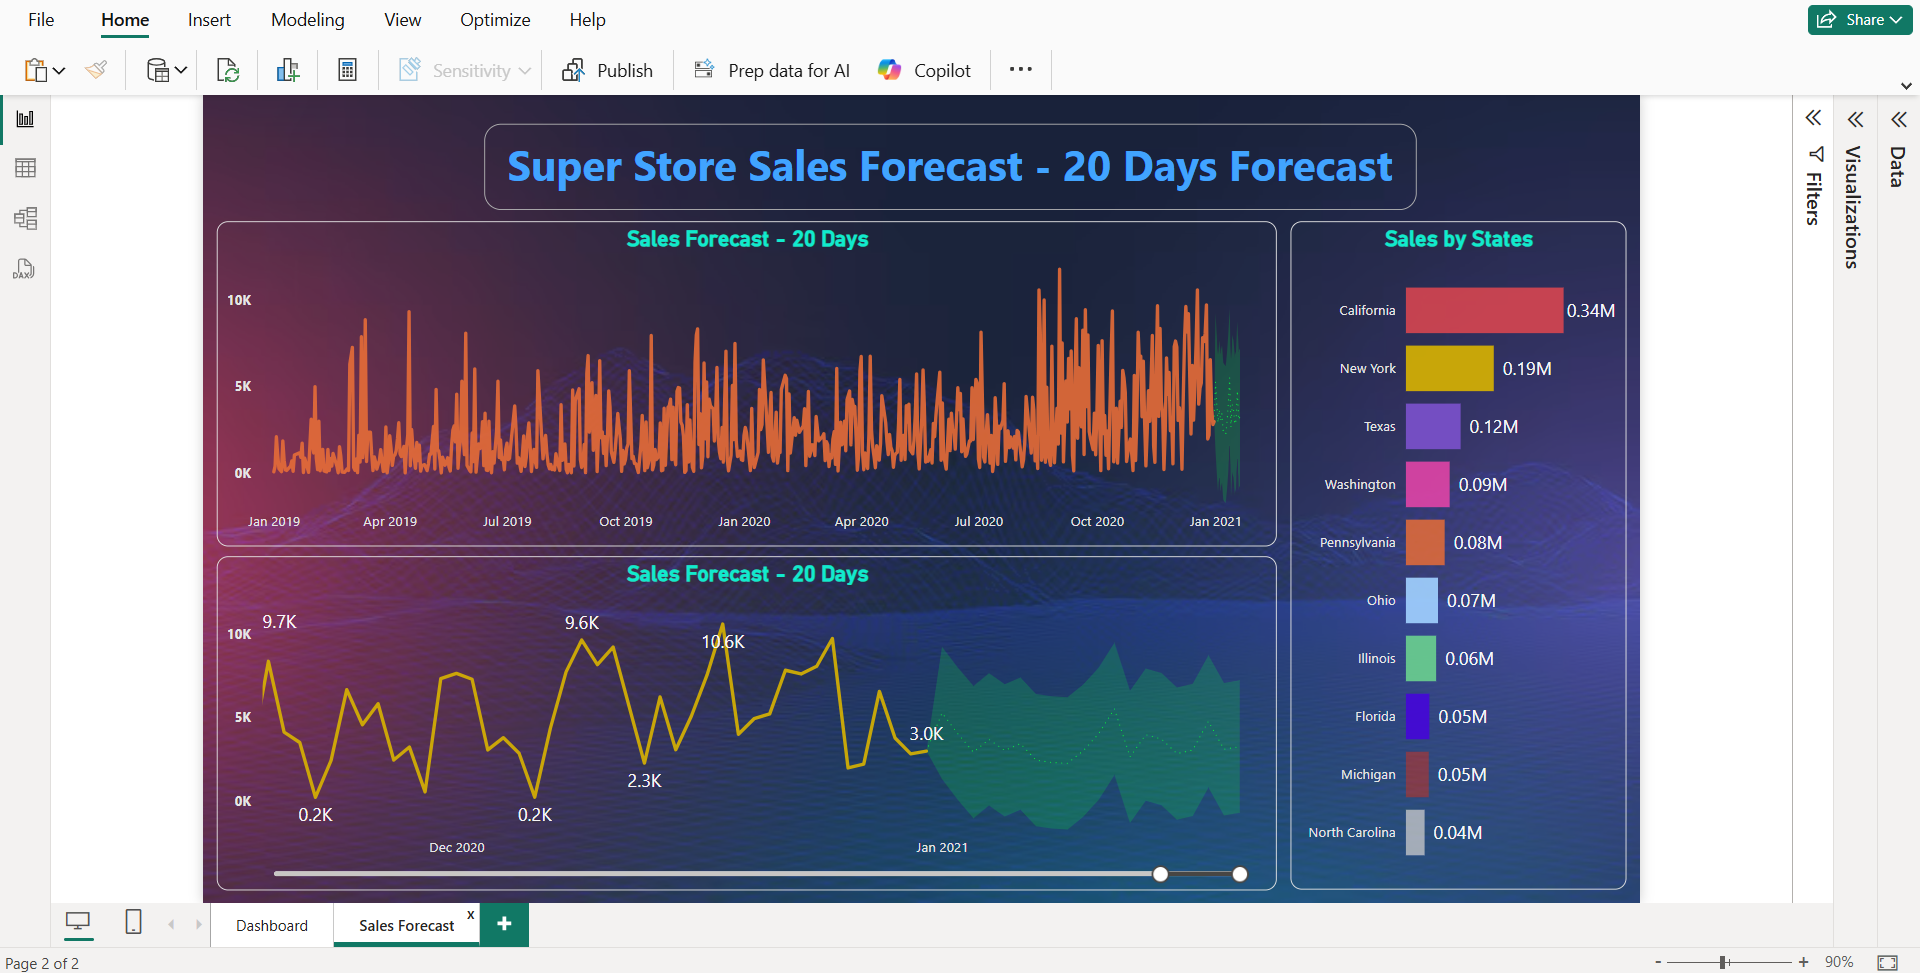

The page's visual inventory and layout, read from the dashboard file:
{"tool":"powerbi","page":{"name":"Sales Forecast","canvas":[1280,720],"ordinal":1},"visuals":[{"type":"textbox","box":[250,25.6,830.2,76.7],"z":6000},{"type":"lineChart","title":"Sales Forecast - 20 Days","fields":{"Y":["Sum(Sheet1.Sales)"],"Category":["Sheet1.Order Date"]},"box":[12.8,112.8,944.2,289.5],"z":6001},{"type":"clusteredBarChart","title":"Sales by States","fields":{"Y":["Sum(Sheet1.Sales)"],"Category":["Sheet1.State"]},"box":[968.6,112.8,298.8,595.4],"z":6002},{"type":"lineChart","title":"Sales Forecast - 20 Days","fields":{"Y":["Sum(Sheet1.Sales)"],"Category":["Sheet1.Order Date"]},"box":[12.8,410.5,944.2,297.7],"z":6003}]}

Visuals, with their boxes on the page's 1280x720 design canvas (x1, y1, x2, y2). These are canvas units, not pixel positions in the 1920x973 screenshot, which may show the page scaled, cropped or inside an application window:
textbox: <bbox>250, 26, 1080, 102</bbox>
"Sales Forecast - 20 Days" lineChart: <bbox>13, 113, 957, 402</bbox>
"Sales by States" clusteredBarChart: <bbox>969, 113, 1267, 708</bbox>
"Sales Forecast - 20 Days" lineChart: <bbox>13, 410, 957, 708</bbox>
